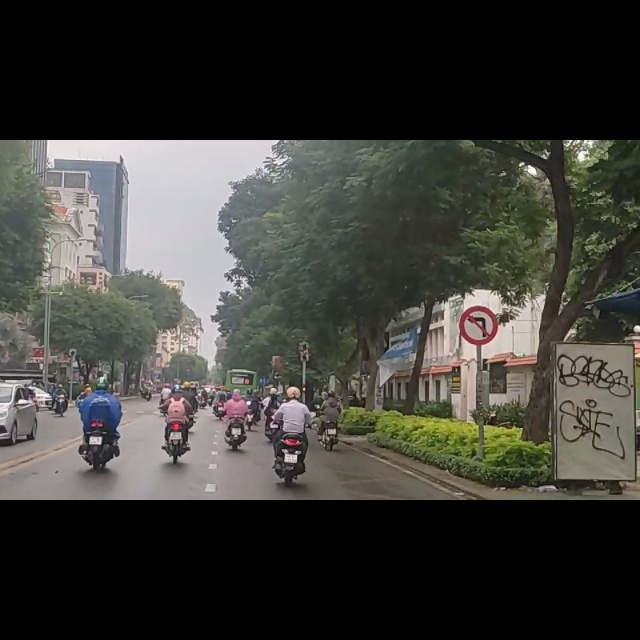bien_hieu_lenh: (459, 294, 499, 366)
